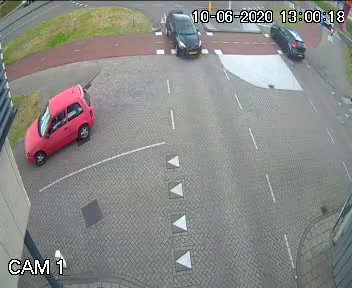car: (23, 78, 102, 161), (266, 25, 307, 68), (164, 10, 198, 59)
